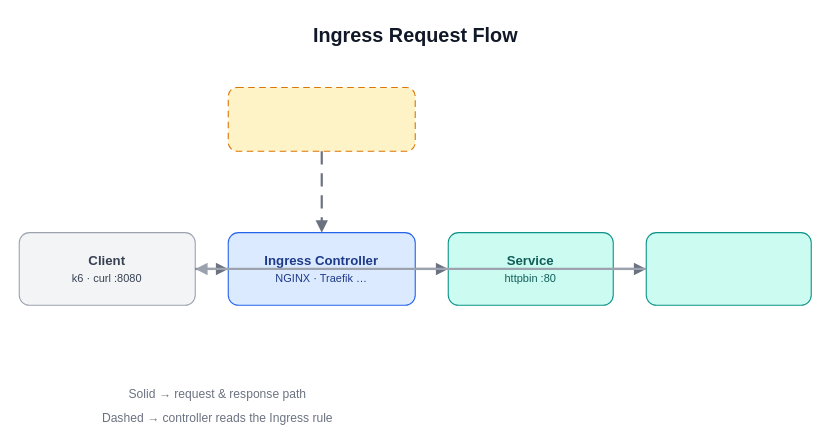
Image size: 831x447. Some labels were removed from this diagram. The shapes that lost their labels are listed below. From the top down, each one's centre as x and y in pixels, then its label:
At point 321,118: "Ingress (the rule) path / → httpbin".
At point 728,268: "Pod httpbin :8080".
